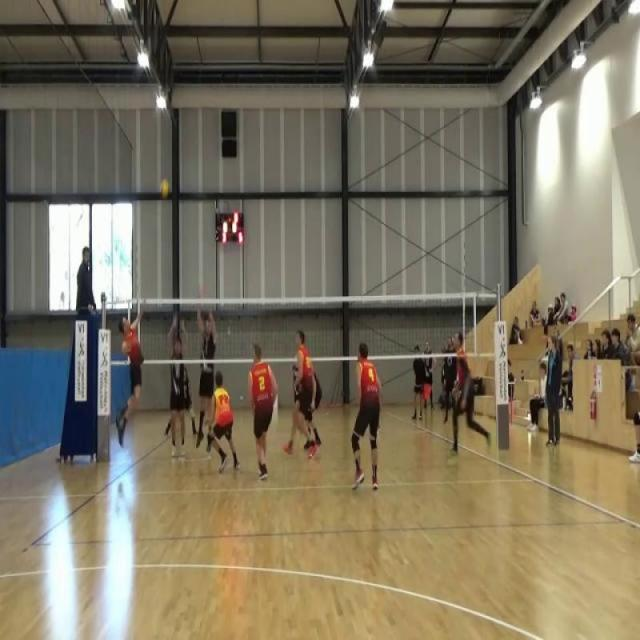volleyball: (158, 176, 170, 202)
